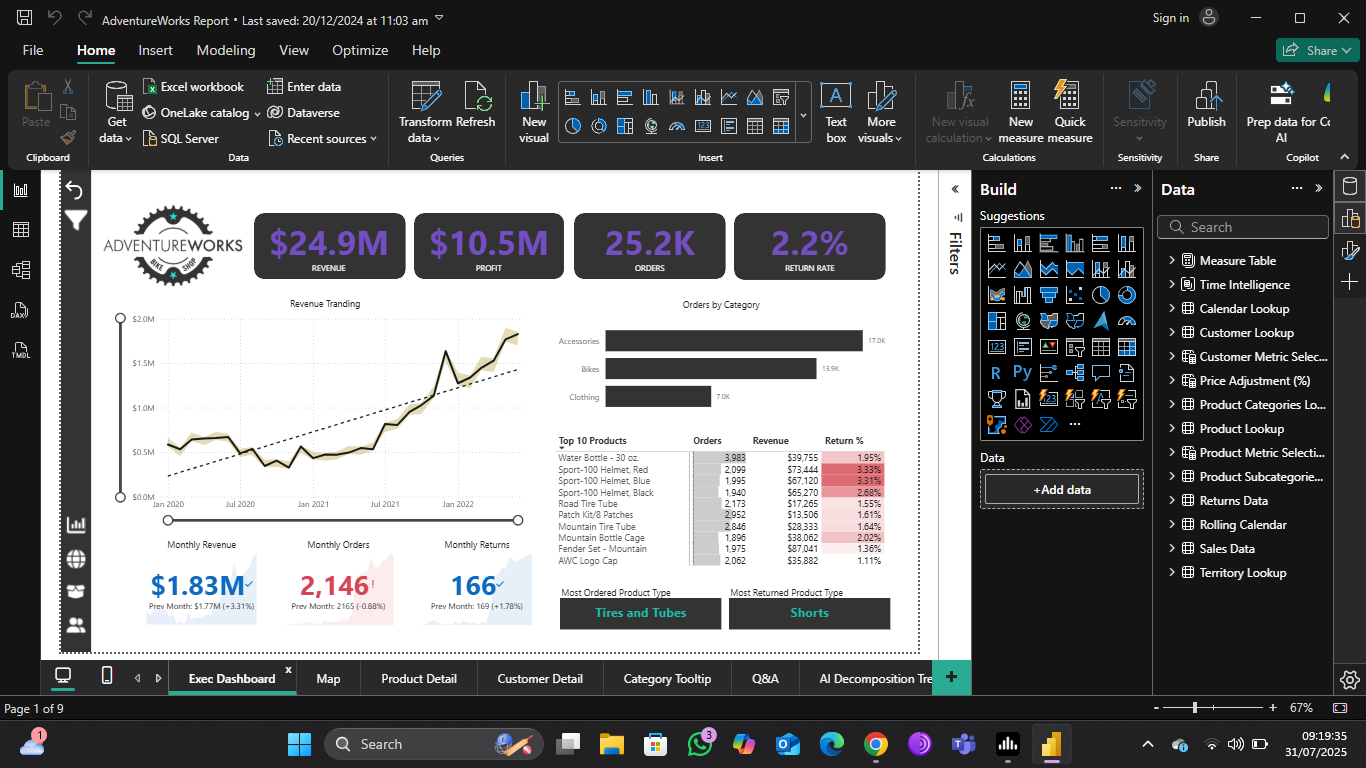

The page's visual inventory and layout, read from the dashboard file:
{"tool":"powerbi","page":{"name":"Exec Dashboard","canvas":[1280,720],"ordinal":0},"visuals":[{"type":"image","title":"AW Logo","box":[36.2,38.6,264.2,148.4],"z":0},{"type":"card","fields":{"Values":["Measure Table.Total Revenue"]},"box":[268,38.6,265.4,149.4],"z":0,"group":"g2"},{"type":"group","id":"g1","title":"KPI Backgrounds","box":[288.4,63.9,943.4,100.1],"z":0,"group":"g3"},{"type":"shape","box":[288.4,63.9,226.8,98.9],"z":0,"group":"g1"},{"type":"actionButton","box":[3.9,512.7,38.6,36.1],"z":0,"group":"g4"},{"type":"shape","title":"Left Nav Background","box":[0,0,45,720],"z":1000},{"type":"group","id":"g2","title":"KPI Values","box":[268,38.6,984.2,149.4],"z":1000,"group":"g3"},{"type":"card","fields":{"Values":["Measure Table.Total Profit"]},"box":[507.6,38.6,265.4,149.4],"z":1000,"group":"g2"},{"type":"shape","box":[766.2,63.9,226.8,98.9],"z":1000,"group":"g1"},{"type":"actionButton","box":[3.9,562.9,38.6,36.2],"z":1000,"group":"g4"},{"type":"group","id":"g3","title":"KPIs","box":[268,38.6,984.2,149.4],"z":2000},{"type":"card","fields":{"Values":["Measure Table.Return Rate"]},"box":[986.8,38.6,265.4,149.4],"z":2000,"group":"g2"},{"type":"shape","box":[1005,63.9,226.8,100.1],"z":2000,"group":"g1"},{"type":"actionButton","box":[3.9,613.2,38.6,35],"z":2000,"group":"g4"},{"type":"card","fields":{"Values":["Measure Table.Total Orders"]},"box":[747.2,38.6,265.4,149.4],"z":3000,"group":"g2"},{"type":"shape","box":[527.3,63.9,224.4,98.9],"z":3000,"group":"g1"},{"type":"lineChart","title":"Revenue Tranding","fields":{"Y":["Measure Table.Total Revenue"],"Category":["Calendar Lookup.Start of Month.Variation.Date Hierarchy.Year","Calendar Lookup.Start of Month.Variation.Date Hierarchy.Quarter","Calendar Lookup.Start of Month.Variation.Date Hierarchy.Month","Calendar Lookup.Start of Month.Variation.Date Hierarchy.Day"]},"box":[78,191,633.8,342.7],"z":3000},{"type":"actionButton","box":[3.9,662.3,38.6,36.2],"z":3000,"group":"g4"},{"type":"kpi","title":"Monthly Revenue","fields":{"Indicator":["Measure Table.Total Revenue"],"TrendLine":["Calendar Lookup.Start of Month"],"Goal":["Measure Table.Previous Month Revenue"]},"box":[123.1,551.3,174.9,132.7],"z":4000},{"type":"kpi","title":"Monthly Orders","fields":{"TrendLine":["Calendar Lookup.Start of Month"],"Indicator":["Measure Table.Total Orders"],"Goal":["Measure Table.Previous Month Orders"]},"box":[326.9,551.3,174.9,133.9],"z":5000},{"type":"kpi","title":"Monthly Returns","fields":{"TrendLine":["Calendar Lookup.Start of Month"],"Indicator":["Measure Table.Total Returns"],"Goal":["Measure Table.Previous Month Returns"]},"box":[533.2,551.3,176.1,133.9],"z":6000},{"type":"clusteredBarChart","title":"Orders by Category","fields":{"Category":["Product Categories Lookup.CategoryName"],"Y":["Measure Table.Total Orders"]},"box":[733.5,193,505.5,184.6],"z":7000},{"type":"pivotTable","fields":{"Rows":["Product Lookup.ProductName"],"Values":["Measure Table.Total Orders","Measure Table.Total Revenue","Measure Table.Return Rate"]},"box":[733.5,389.7,505.5,229.2],"z":8000},{"type":"card","fields":{"Values":["Min(Product Subcategories Lookup.SubcategoryName)"]},"box":[745.5,639.7,241.4,46.7],"z":9000},{"type":"textbox","box":[742.2,616.8,183.4,31.4],"z":10000},{"type":"card","fields":{"Values":["Min(Product Subcategories Lookup.SubcategoryName)"]},"box":[997.9,639.9,241.3,47.1],"z":11000},{"type":"textbox","box":[995.5,616.8,183.4,31.4],"z":12000},{"type":"actionButton","box":[0,10.9,44.6,38.6],"z":13000},{"type":"group","id":"g4","title":"Navigation Button","box":[3.9,512.7,38.6,185.8],"z":14000},{"type":"actionButton","box":[1.2,54.3,43.4,42.2],"z":15000}]}

Visuals, with their boxes on the page's 1280x720 design canvas (x1, y1, x2, y2). These are canvas units, not pixel positions in the 1366x768 screenshot, which may show the page scaled, cropped or inside an application window:
"AW Logo" image: 36/39/300/187
card - Measure Table.Total Revenue: 268/39/533/188
"KPI Backgrounds" group: 288/64/1232/164
shape: 288/64/515/163
actionButton: 4/513/42/549
"Left Nav Background" shape: 0/0/45/720
"KPI Values" group: 268/39/1252/188
card - Measure Table.Total Profit: 508/39/773/188
shape: 766/64/993/163
actionButton: 4/563/42/599
"KPIs" group: 268/39/1252/188
card - Measure Table.Return Rate: 987/39/1252/188
shape: 1005/64/1232/164
actionButton: 4/613/42/648
card - Measure Table.Total Orders: 747/39/1013/188
shape: 527/64/752/163
"Revenue Tranding" lineChart: 78/191/712/534
actionButton: 4/662/42/698
"Monthly Revenue" kpi: 123/551/298/684
"Monthly Orders" kpi: 327/551/502/685
"Monthly Returns" kpi: 533/551/709/685
"Orders by Category" clusteredBarChart: 734/193/1239/378
pivotTable - Product Lookup.ProductName x Measure Table.Total Orders: 734/390/1239/619
card - Min(Product Subcategories Lookup.SubcategoryName): 746/640/987/686
textbox: 742/617/926/648
card - Min(Product Subcategories Lookup.SubcategoryName): 998/640/1239/687
textbox: 996/617/1179/648
actionButton: 0/11/45/50
"Navigation Button" group: 4/513/42/698
actionButton: 1/54/45/96
